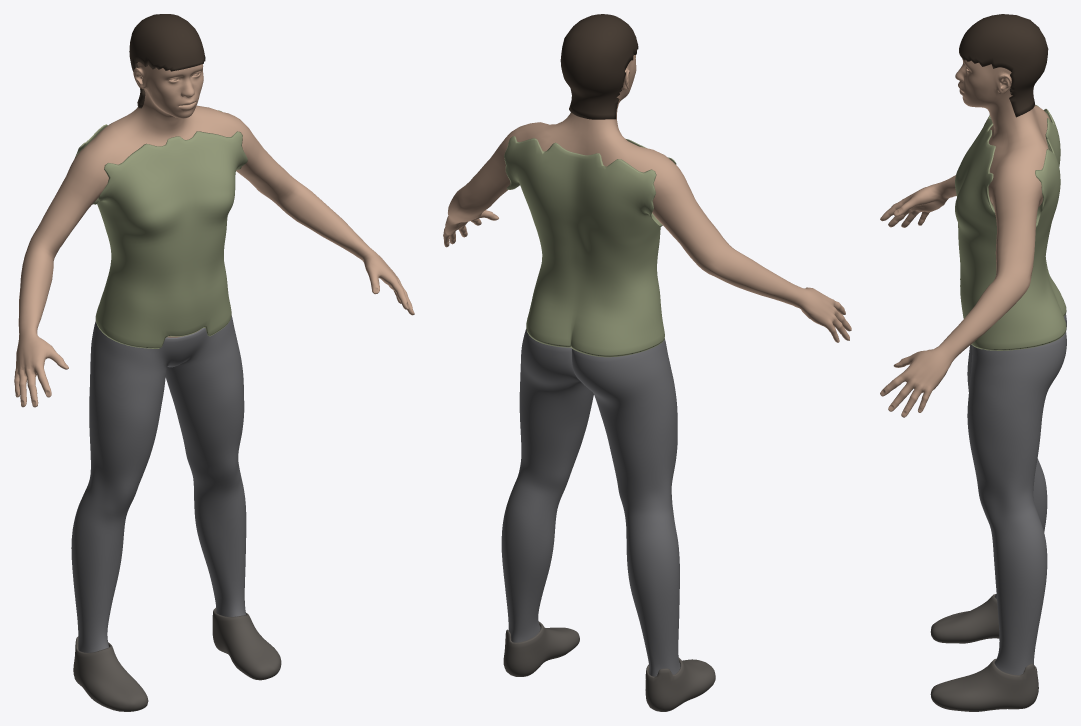
File: 1-charA.glb
The picture shows the model from 3 angles, left to right: view 1: azimuth 30°, elevation 25°; view 2: azimuth 150°, elevation 25°; view 3: azimuth 270°, elevation 25°; orthographic projection. The views are drawn at different scales.
Visible parts, largest first — view 1: pants, shirt, Human, shoes, hair; view 2: pants, shirt, Human, hair, shoes; view 3: pants, Human, shirt, shoes, hair.
Part boxes in pixels (left/top/right/bottom): pants: left=71, top=316, right=246, bottom=652; shirt: left=75, top=110, right=247, bottom=348; Human: left=14, top=62, right=414, bottom=407; shoes: left=73, top=608, right=281, bottom=711; hair: left=129, top=14, right=205, bottom=108; pants: left=501, top=329, right=680, bottom=676; shirt: left=504, top=136, right=676, bottom=357; Human: left=443, top=55, right=851, bottom=342; hair: left=560, top=14, right=638, bottom=119; shoes: left=503, top=621, right=715, bottom=711; pants: left=967, top=314, right=1066, bottom=675; Human: left=880, top=59, right=1050, bottom=417; shirt: left=955, top=104, right=1066, bottom=350; shoes: left=930, top=594, right=1038, bottom=711; hair: left=959, top=14, right=1048, bottom=117.
Size of the model in its own units: 1.05 by 1.68 by 0.4343.
